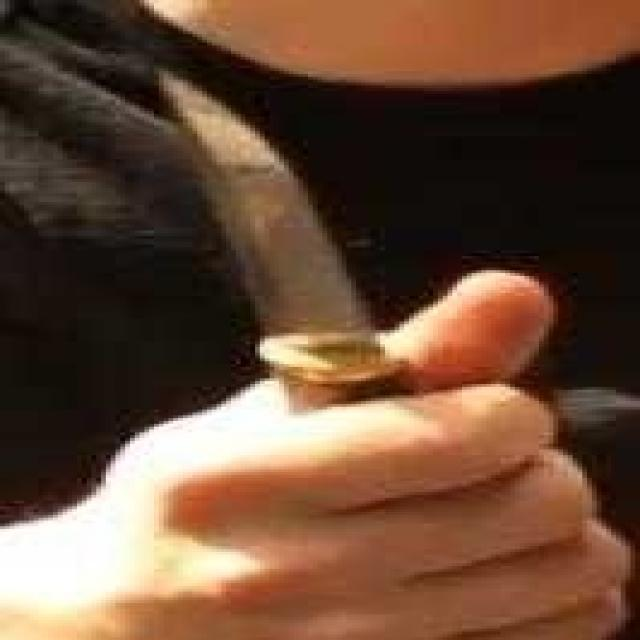knife: (150, 55, 447, 539)
